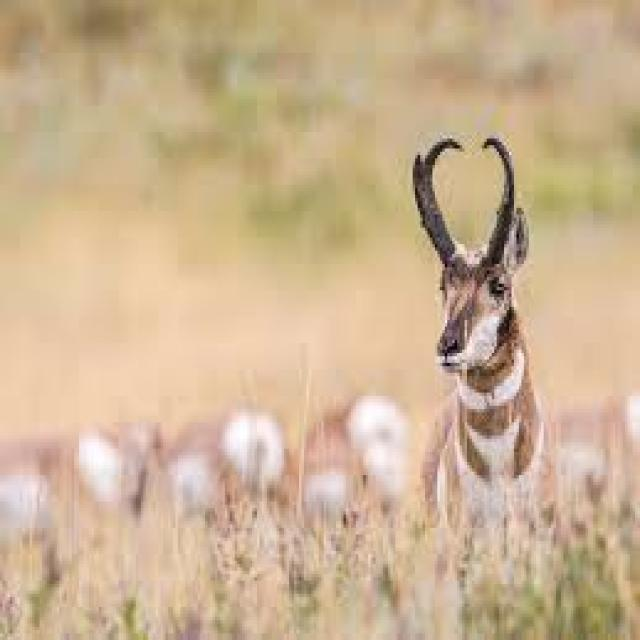Antelope: (409, 123, 550, 524)
